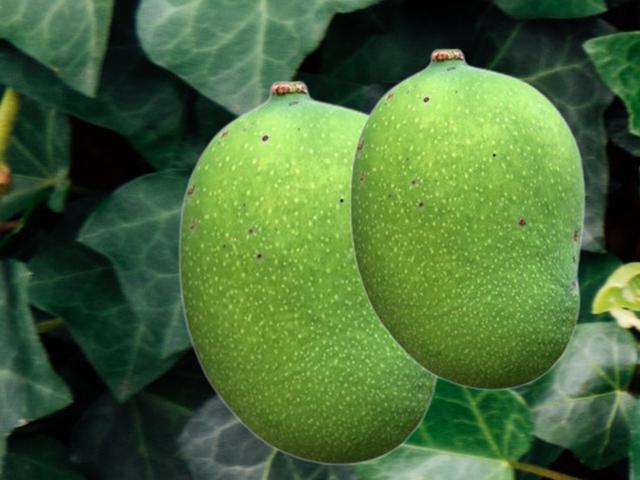green_mango: (177, 79, 439, 465), (348, 47, 584, 390)
